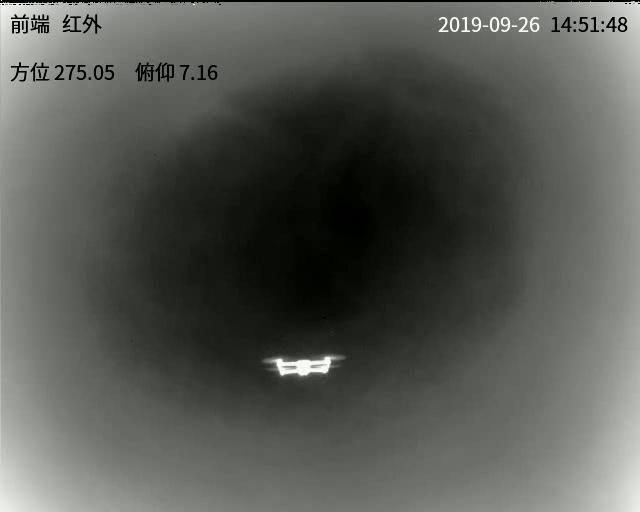DRONE: (264, 354, 339, 378)
